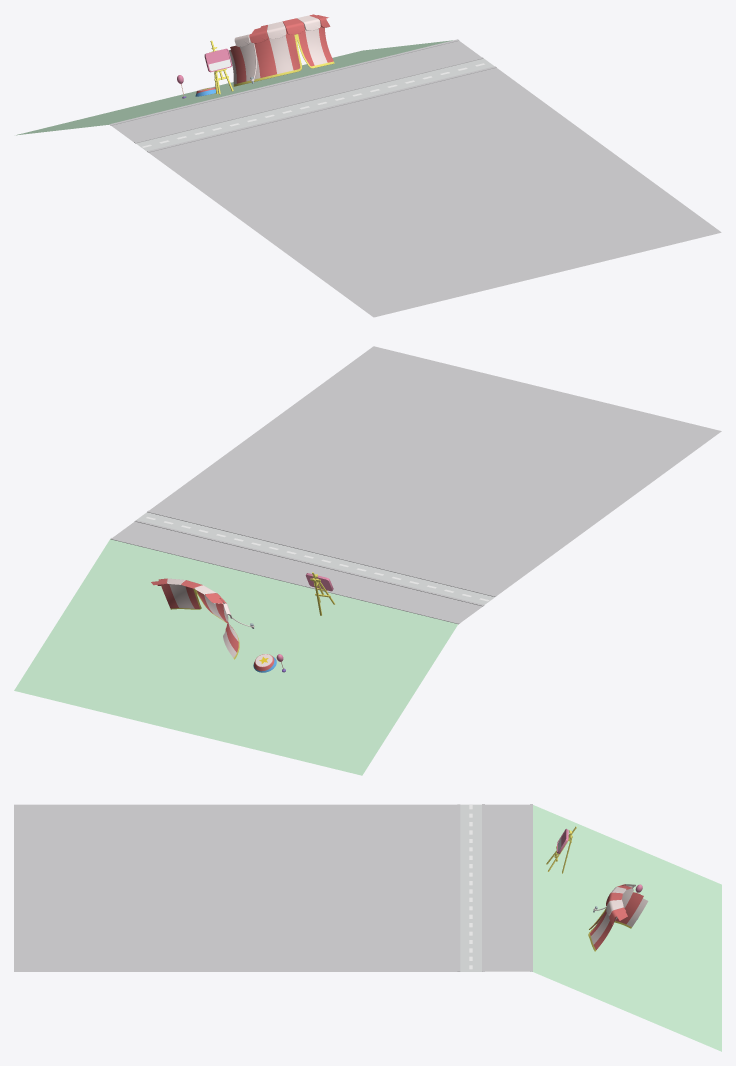
The model's file is Circus_map.fbx.
3 renders of one model, top to bottom at view 1: azimuth 30°, elevation 25°; view 2: azimuth 150°, elevation 25°; view 3: azimuth 270°, elevation 25°, orthographic.
Visible parts, largest first — view 1: 02_CarPlane.001, 02_Parking.001, _gltfNode_3170.002, 02_Plane.010, 02_Road.007, 02_Street Light.003; view 2: 02_CarPlane.001, 02_Plane.010, 02_Parking.001, 02_Road.007, _gltfNode_3170.002; view 3: 02_CarPlane.001, 02_Plane.010, 02_Parking.001, 02_Road.007, _gltfNode_3170.002.
Boxes of the visible parts, x1,y1,x2,y2 form: 02_CarPlane.001: (147, 66, 721, 317); 02_Parking.001: (110, 39, 483, 143); _gltfNode_3170.002: (229, 14, 334, 86); 02_Plane.010: (16, 40, 452, 135); 02_Road.007: (136, 58, 493, 151); 02_Street Light.003: (204, 48, 232, 72); 02_CarPlane.001: (147, 346, 721, 596); 02_Plane.010: (14, 539, 457, 775); 02_Parking.001: (110, 520, 484, 624); 02_Road.007: (137, 512, 494, 604); _gltfNode_3170.002: (151, 578, 254, 659); 02_CarPlane.001: (14, 804, 460, 971); 02_Plane.010: (533, 805, 721, 1051); 02_Parking.001: (482, 804, 532, 971); 02_Road.007: (460, 804, 482, 971); _gltfNode_3170.002: (588, 884, 648, 951).
Size of the model in its own units: 4005 by 1307 by 7156.
